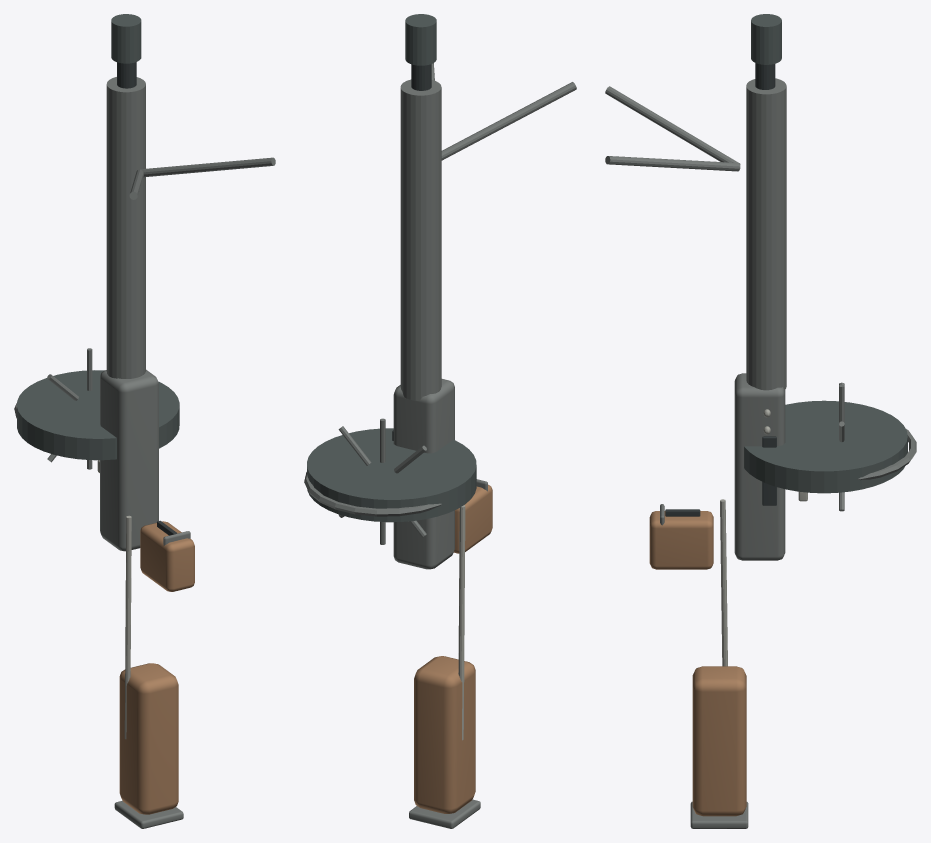
Rendered from wave24_dp28.glb.
The picture shows the model from 3 angles, left to right: view 1: azimuth 30°, elevation 25°; view 2: azimuth 150°, elevation 25°; view 3: azimuth 270°, elevation 25°; orthographic projection. The views are drawn at different scales.
Parts seen in each view (by area): view 1: DP28 long protective barrel shroud, dp28 large machined receiver, dp28 1940s shoulder walnut butt, DP28 iconic top 47-round pancake magazine, dp28 finger-grip wood, DP28 flash suppressor, DP28 stabilizing folding bipod 1, dp28 wood-stock sling, dp28 rear stock steel buttplate, DP28 Degtyaryov slim long barrel; view 2: DP28 long protective barrel shroud, DP28 iconic top 47-round pancake magazine, dp28 1940s shoulder walnut butt, dp28 large machined receiver, dp28 finger-grip wood, DP28 flash suppressor, DP28 stabilizing folding bipod -1, dp28 wood-stock sling, DP28 pancake spiral rolled rim, dp28 rear stock steel buttplate, DP28 Degtyaryov slim long barrel; view 3: DP28 long protective barrel shroud, DP28 iconic top 47-round pancake magazine, dp28 1940s shoulder walnut butt, dp28 large machined receiver, dp28 finger-grip wood, DP28 flash suppressor, DP28 stabilizing folding bipod -1, DP28 stabilizing folding bipod 1, dp28 wood-stock sling, dp28 rear stock steel buttplate, DP28 pancake spiral rolled rim.
Part boxes in pixels (x1,y1,x2,y2): DP28 long protective barrel shroud: [106, 77, 145, 378]; dp28 large machined receiver: [100, 369, 158, 551]; dp28 1940s shoulder walnut butt: [119, 663, 178, 814]; DP28 iconic top 47-round pancake magazine: [17, 370, 179, 460]; dp28 finger-grip wood: [140, 521, 194, 591]; DP28 flash suppressor: [111, 14, 141, 63]; DP28 stabilizing folding bipod 1: [139, 157, 275, 177]; dp28 wood-stock sling: [124, 515, 131, 739]; dp28 rear stock steel buttplate: [114, 800, 183, 828]; DP28 Degtyaryov slim long barrel: [117, 62, 136, 88]; DP28 long protective barrel shroud: [400, 79, 441, 400]; DP28 iconic top 47-round pancake magazine: [307, 428, 476, 522]; dp28 1940s shoulder walnut butt: [414, 656, 475, 813]; dp28 large machined receiver: [393, 379, 454, 569]; dp28 finger-grip wood: [453, 484, 492, 553]; DP28 flash suppressor: [405, 14, 436, 65]; DP28 stabilizing folding bipod -1: [441, 82, 576, 160]; dp28 wood-stock sling: [458, 505, 465, 740]; DP28 pancake spiral rolled rim: [304, 472, 441, 516]; dp28 rear stock steel buttplate: [409, 799, 480, 828]; DP28 Degtyaryov slim long barrel: [411, 64, 431, 90]; DP28 long protective barrel shroud: [746, 78, 786, 390]; DP28 iconic top 47-round pancake magazine: [744, 400, 907, 493]; dp28 1940s shoulder walnut butt: [692, 666, 746, 816]; dp28 large machined receiver: [734, 373, 785, 560]; dp28 finger-grip wood: [649, 511, 713, 569]; DP28 flash suppressor: [751, 14, 781, 64]; DP28 stabilizing folding bipod -1: [605, 86, 740, 164]; DP28 stabilizing folding bipod 1: [605, 156, 740, 171]; dp28 wood-stock sling: [720, 499, 727, 666]; dp28 rear stock steel buttplate: [690, 801, 748, 828]; DP28 pancake spiral rolled rim: [857, 429, 916, 480].
Size of the model in its own units: 0.4802 by 2.44 by 0.8638.
